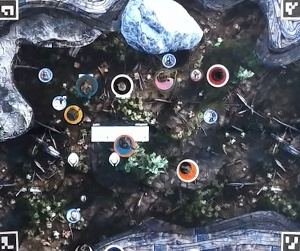black: (111, 78, 135, 101)
brown_turquoise: (75, 75, 98, 98)
light_blue_orange: (114, 132, 137, 155)
orange: (177, 158, 200, 181)
pink_green: (154, 68, 177, 91)
red: (208, 65, 231, 88)
yellow_night_blue: (61, 105, 84, 128)
